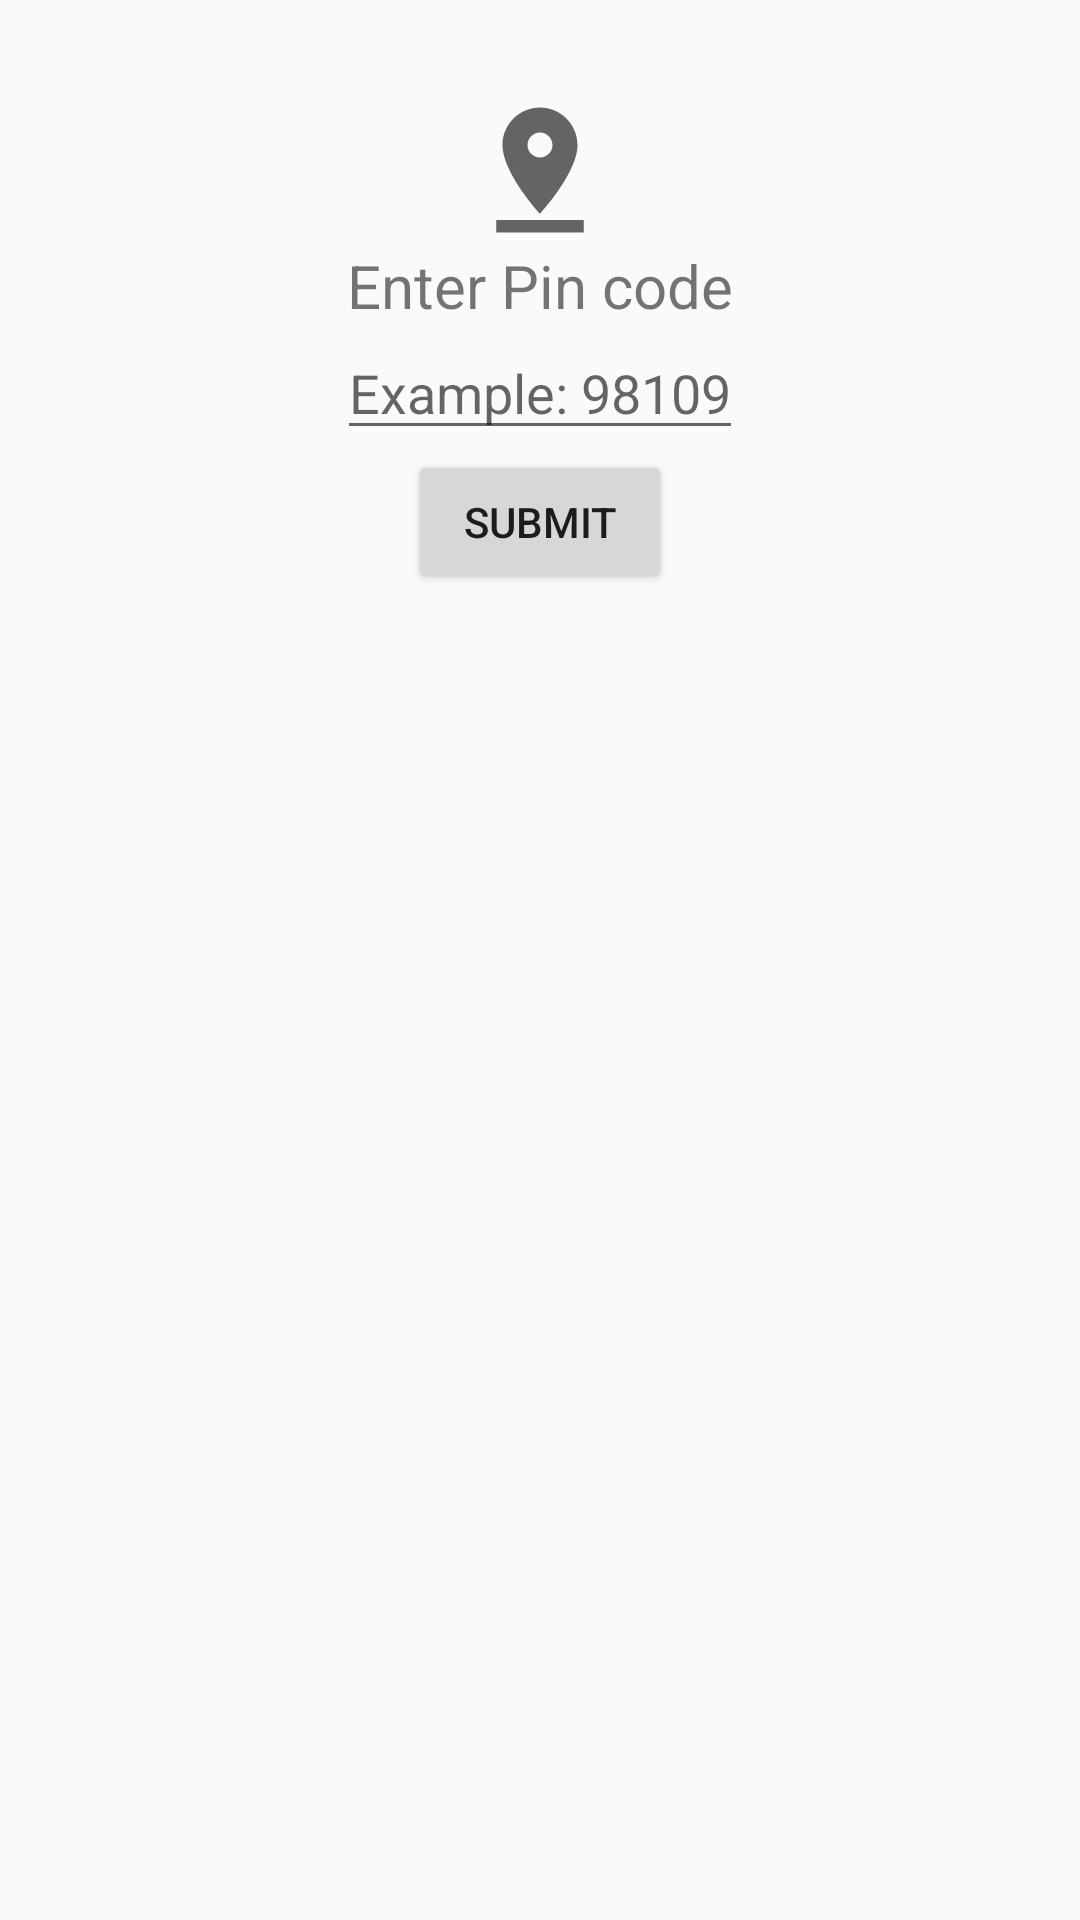

Where icons sit on this 1080w x 1920h app screen, as (x1, y1, x2, y2):
pin drop: (496, 107, 584, 233)
